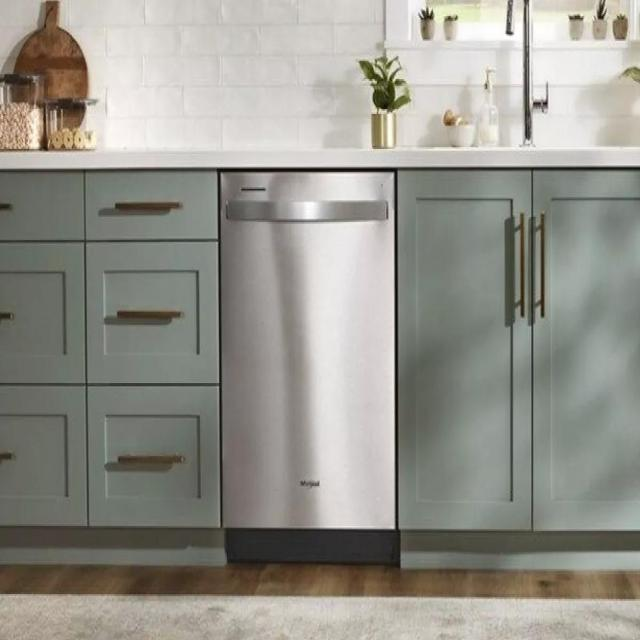dishwasher: (218, 160, 402, 572)
